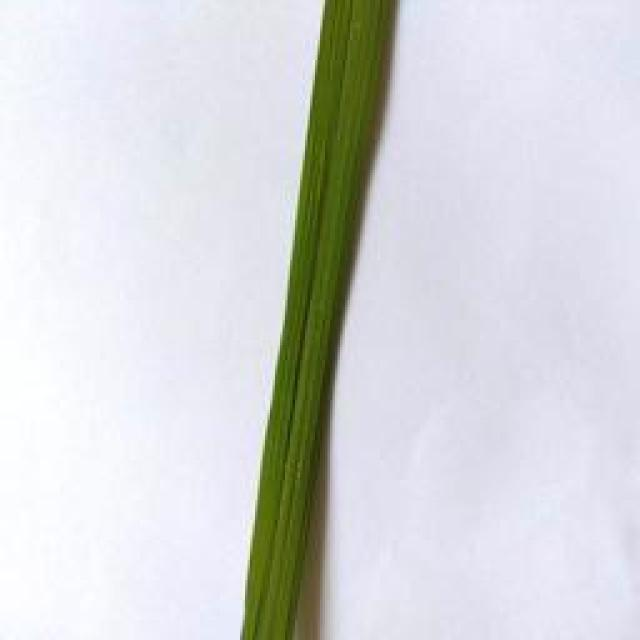Healthy-Plant: (238, 0, 403, 640)
